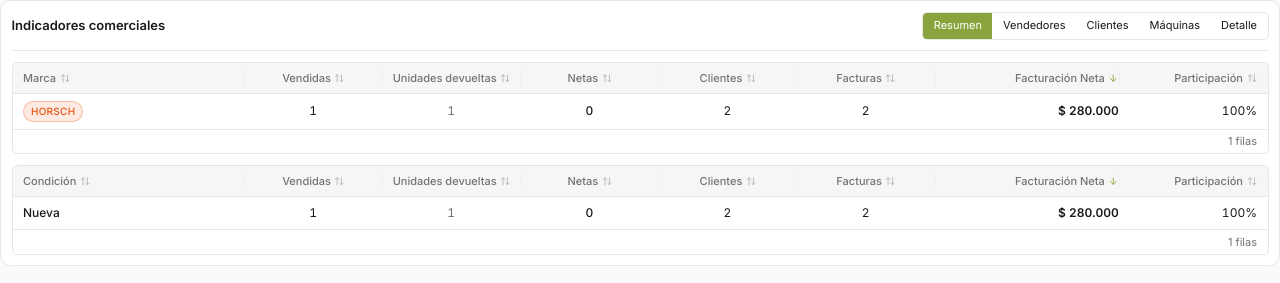
Scenario: Ventas de Máquinas › agrupa por marca y tipo y permite ver el modelo
The width and height of the screenshot is (1280, 283).
Click the button "Máquinas" at (1175, 26), box [1139, 12, 1211, 38]
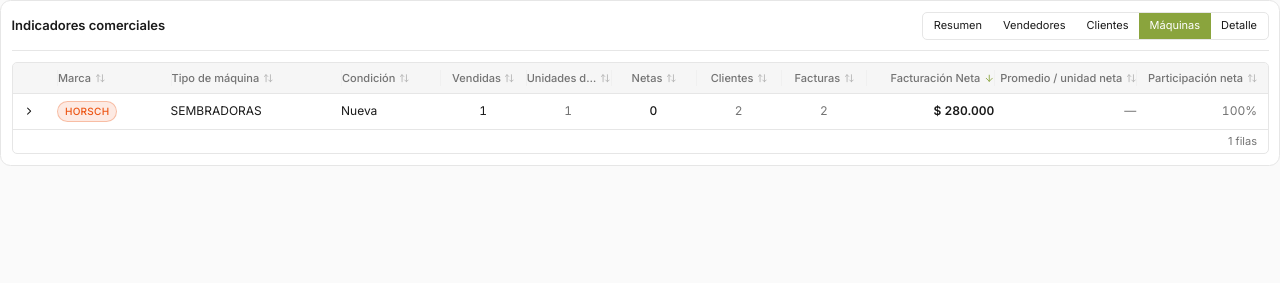
Click the button "HORSCH SEMBRADORAS Nueva 1 1 0 2 2 $ 280.000 — 100%" at (87, 111), box [12, 93, 1268, 128]
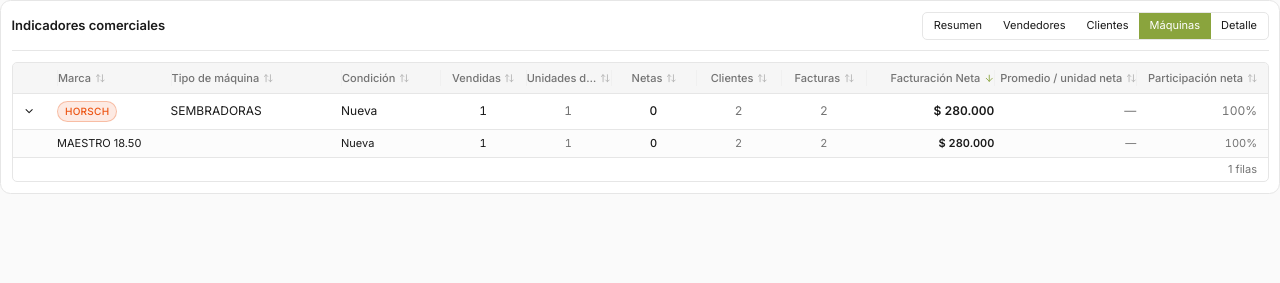
Expected: the text "MAESTRO 18.50" is shown, [57, 136, 141, 150]
